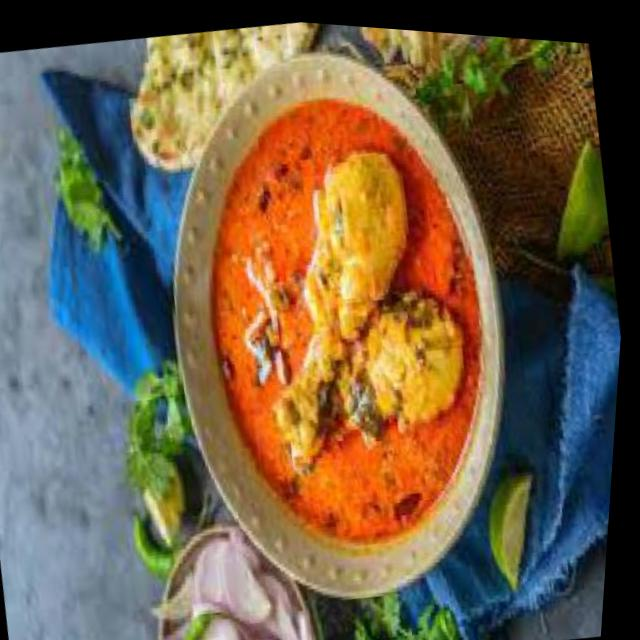CHICKEN CURRY: (208, 99, 483, 543)
